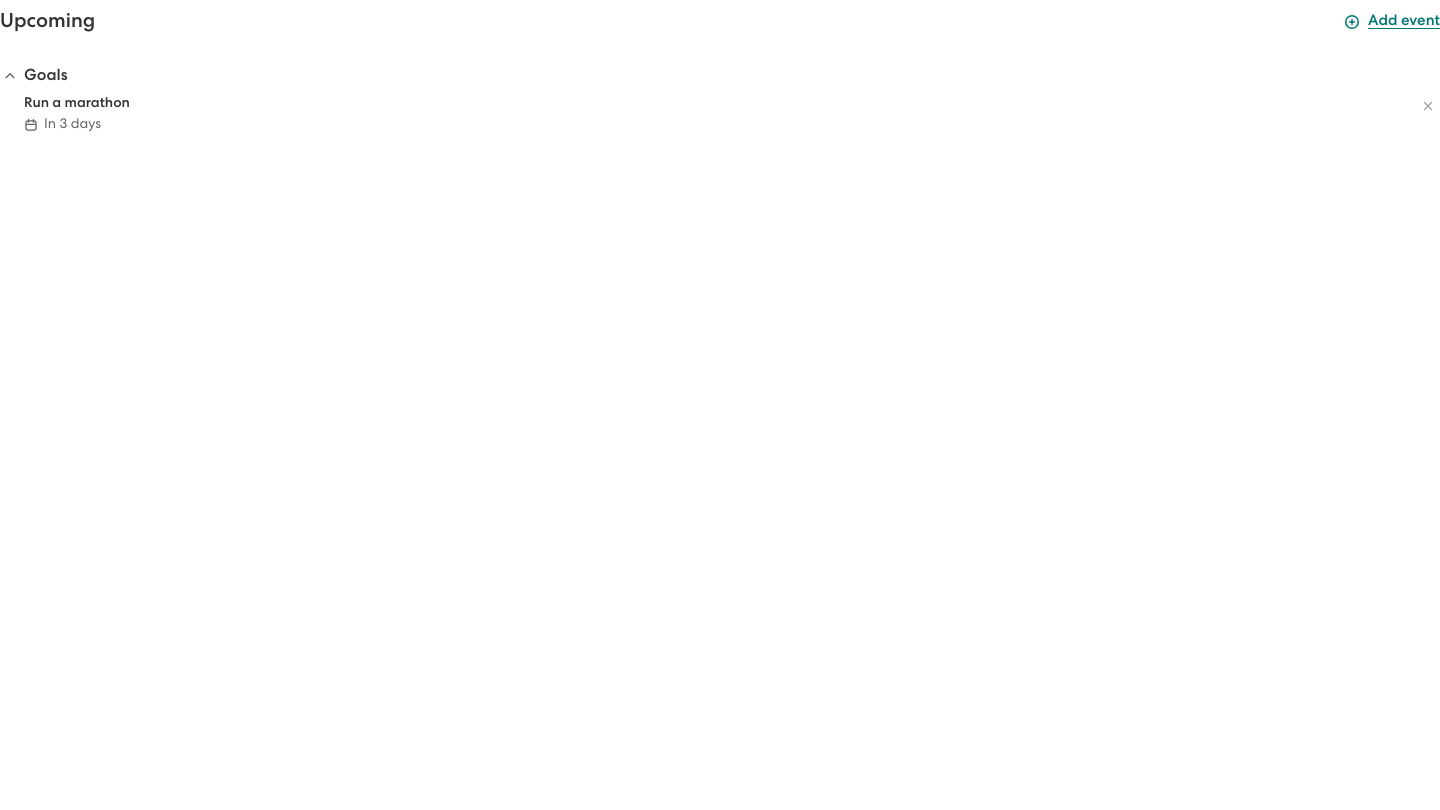
Upcoming — removing › says a linked goal's deadline goes with it
This screenshot has width=1440, height=810.
Click the button named "Remove \"Run a marathon\" from Upcoming" at (1428, 106), box [1416, 94, 1439, 118]
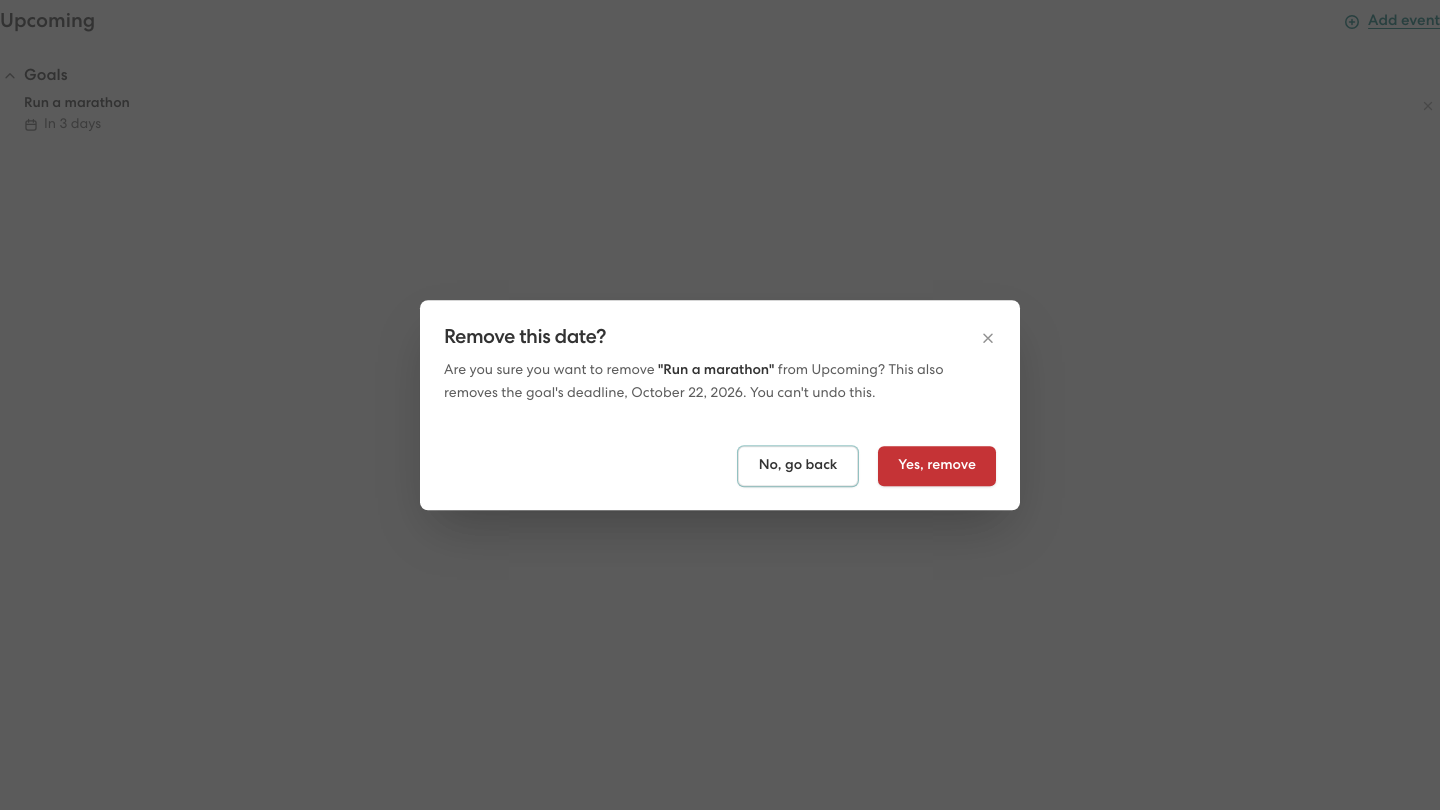
Result: the dialog shows "This also removes the goal's deadline" at [420, 300, 1020, 510]
